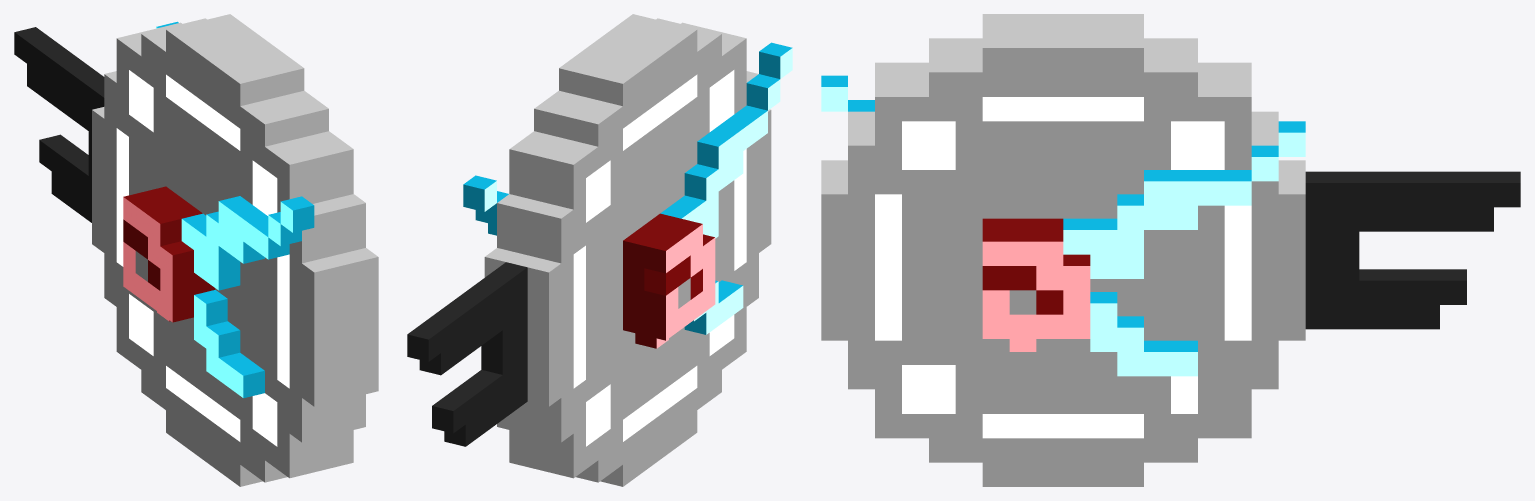
File: mechaCafeSign.glb
The picture shows the model from 3 angles, left to right: view 1: azimuth 30°, elevation 25°; view 2: azimuth 150°, elevation 25°; view 3: azimuth 270°, elevation 25°; orthographic projection. The views are drawn at different scales.
Parts seen in each view (by area): view 1: ObjObject; view 2: ObjObject; view 3: ObjObject.
Boxes of the visible parts, x1,y1,x2,y2 form: ObjObject: [14, 14, 378, 486]; ObjObject: [407, 14, 792, 486]; ObjObject: [821, 14, 1520, 486].
Bounding box in the file's own units: 0.7 × 1.8 × 2.6.
Materials: 4 (1 with a texture image).
